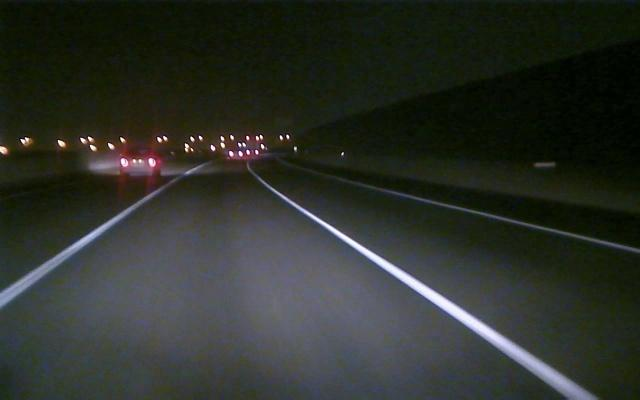lane: (260, 181, 601, 399), (351, 179, 640, 256), (1, 193, 156, 309)
